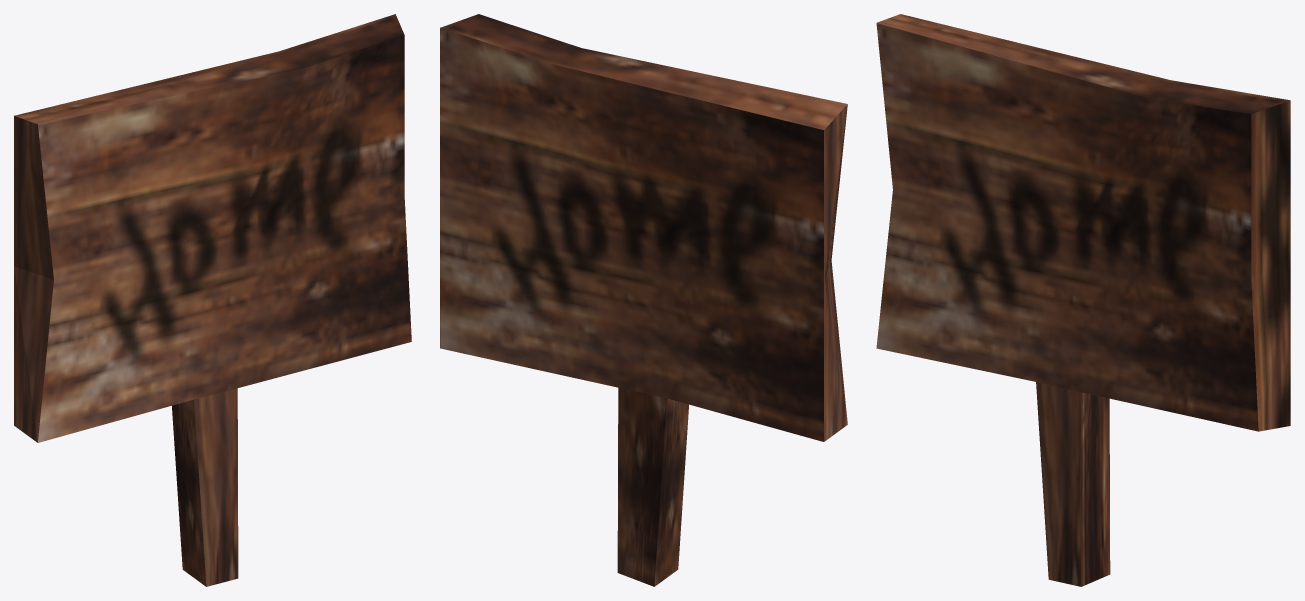
Rendered from Tablichka.fbx.
3 views of the same model, side by side, from view 1: azimuth 30°, elevation 25°; view 2: azimuth 150°, elevation 25°; view 3: azimuth 330°, elevation 25° (orthographic). The views are drawn at different scales.
Visible parts, largest first — view 1: Cube; view 2: Cube; view 3: Cube.
Boxes of the visible parts, x1=… form: Cube: x1=14, y1=14, x2=411, y2=586; Cube: x1=440, y1=14, x2=847, y2=586; Cube: x1=876, y1=14, x2=1290, y2=586.
Bounding box in the file's own units: 476 × 600 × 51.15.
Materials: 1 (1 with a texture image).
